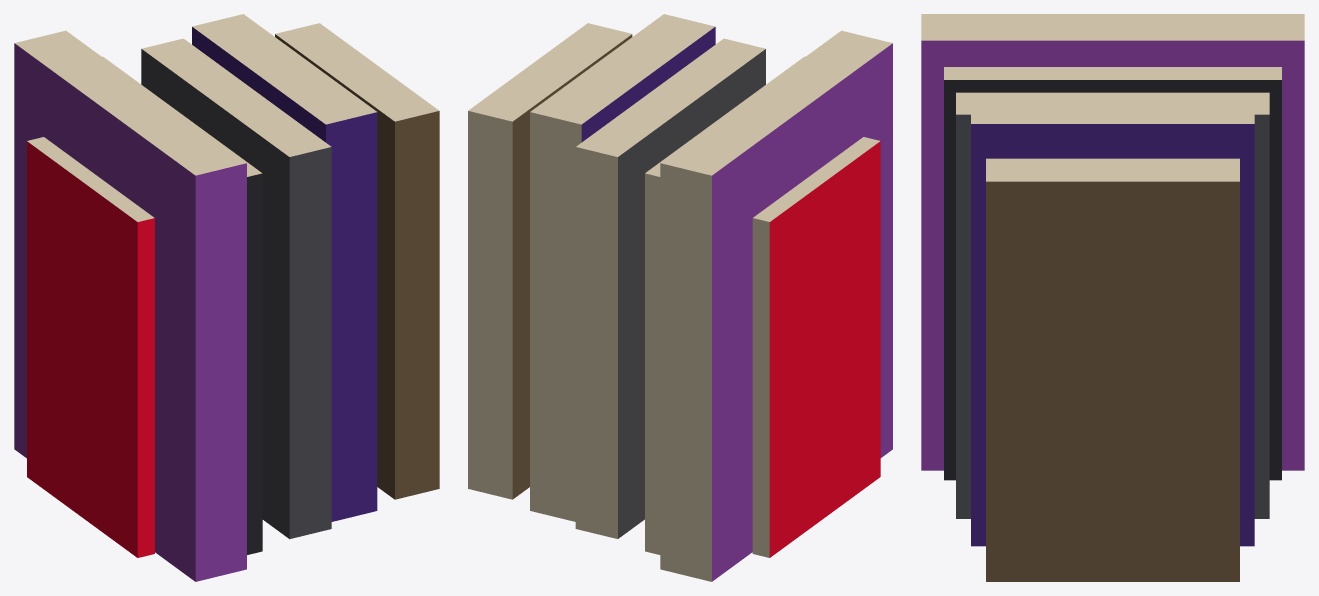
The model's file is Book_7.fbx.
3 views of the same model, side by side, from view 1: azimuth 30°, elevation 25°; view 2: azimuth 150°, elevation 25°; view 3: azimuth 270°, elevation 25° (orthographic). The views are drawn at different scales.
Visible parts, largest first — view 1: pCube2432; view 2: pCube2432; view 3: pCube2432.
Boxes of the visible parts, bbox=[...] form: pCube2432: bbox=[14, 14, 439, 581]; pCube2432: bbox=[468, 14, 892, 581]; pCube2432: bbox=[921, 14, 1304, 581].
Bounding box in the file's own units: 28.03 × 36.61 × 29.58.
